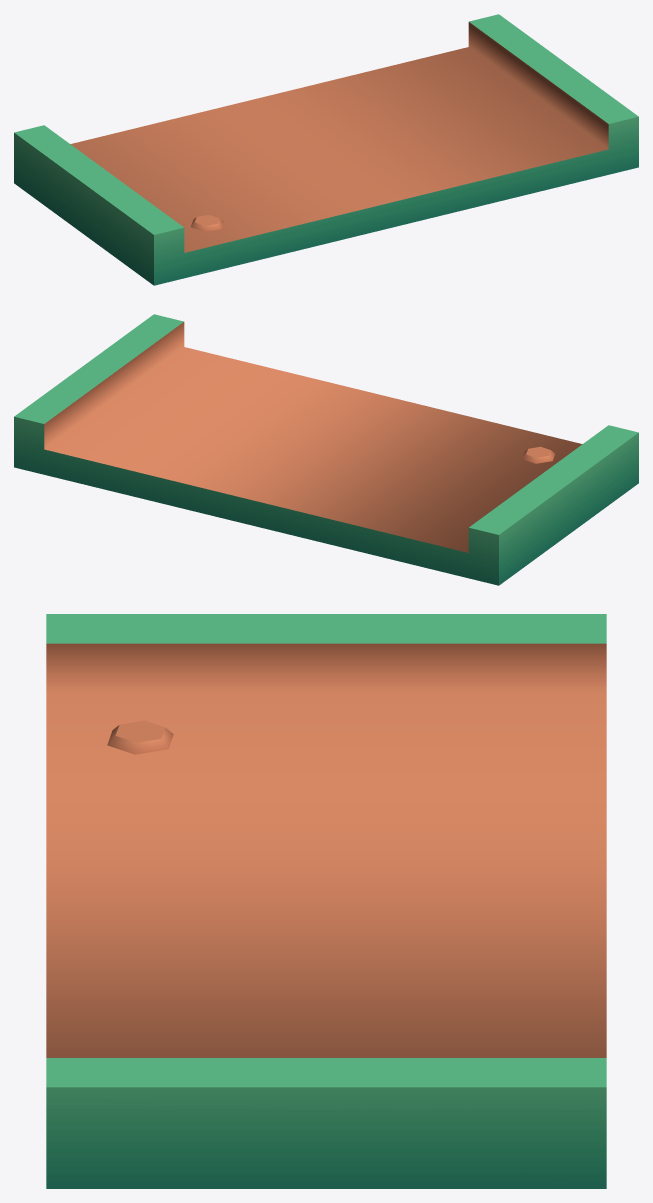
File: kenney-tower-defense-tile-wide-straight.glb
The picture shows the model from 3 angles, top to bottom: view 1: azimuth 30°, elevation 25°; view 2: azimuth 150°, elevation 25°; view 3: azimuth 270°, elevation 25°; orthographic projection. The views are drawn at different scales.
Parts seen in each view (by area): view 1: tile-wide-straight; view 2: tile-wide-straight; view 3: tile-wide-straight.
Boxes of the visible parts, x1,y1,x2,y2 form: tile-wide-straight: [14, 14, 638, 285]; tile-wide-straight: [14, 314, 638, 585]; tile-wide-straight: [46, 614, 606, 1188].
Bounding box in the file's own units: 2 × 0.2 × 1.
Materials: 1 (1 with a texture image).
